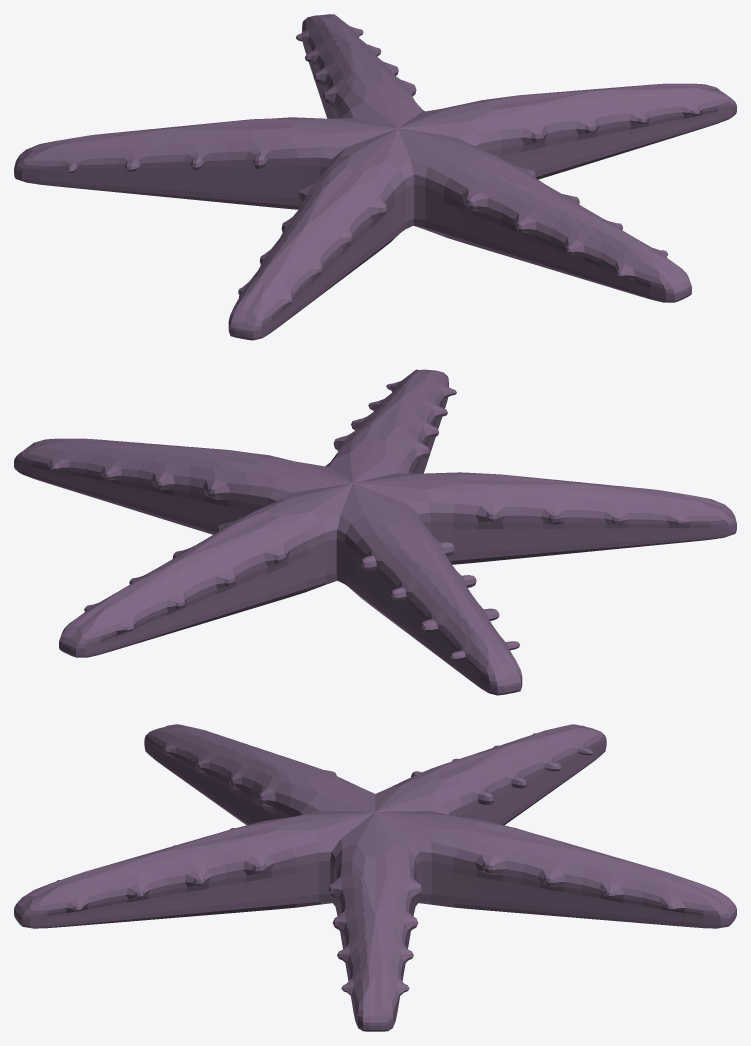
Rendered from starfish1.fbx.
3 views of the same model, one above another, from view 1: azimuth 30°, elevation 25°; view 2: azimuth 150°, elevation 25°; view 3: azimuth 270°, elevation 25° (orthographic). The views are drawn at different scales.
Visible parts, largest first — view 1: Cylinder; view 2: Cylinder; view 3: Cylinder.
Boxes of the visible parts, left/top/right/bottom form: Cylinder: left=14, top=14, right=736, bottom=340; Cylinder: left=14, top=369, right=736, bottom=695; Cylinder: left=14, top=724, right=736, bottom=1031.
Bounding box in the file's own units: 876 × 103 × 920.
